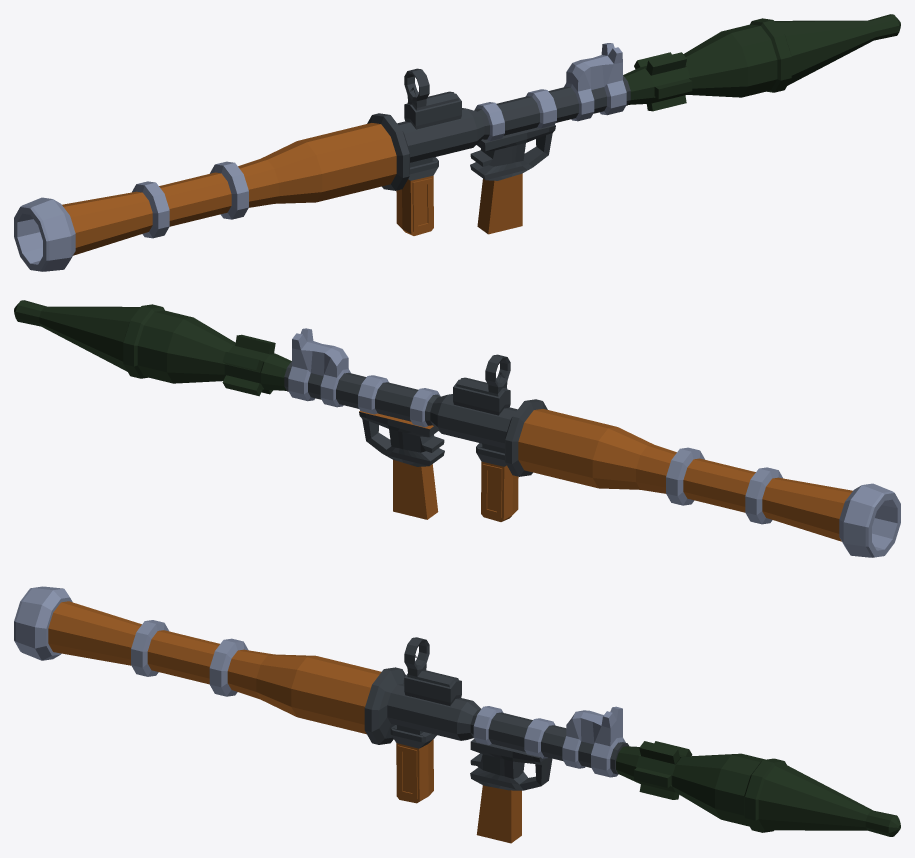
The model's file is RocketLauncher.fbx.
The picture shows the model from 3 angles, top to bottom: view 1: azimuth 30°, elevation 25°; view 2: azimuth 150°, elevation 25°; view 3: azimuth 330°, elevation 25°; orthographic projection.
Visible parts, largest first — view 1: Rocket; view 2: Rocket; view 3: Rocket.
Part boxes in pixels (x1,y1,x2,y2): Rocket: (14, 14, 900, 271); Rocket: (14, 300, 900, 557); Rocket: (14, 586, 900, 843).
Size of the model in its own units: 237 by 45.7 by 17.95.
